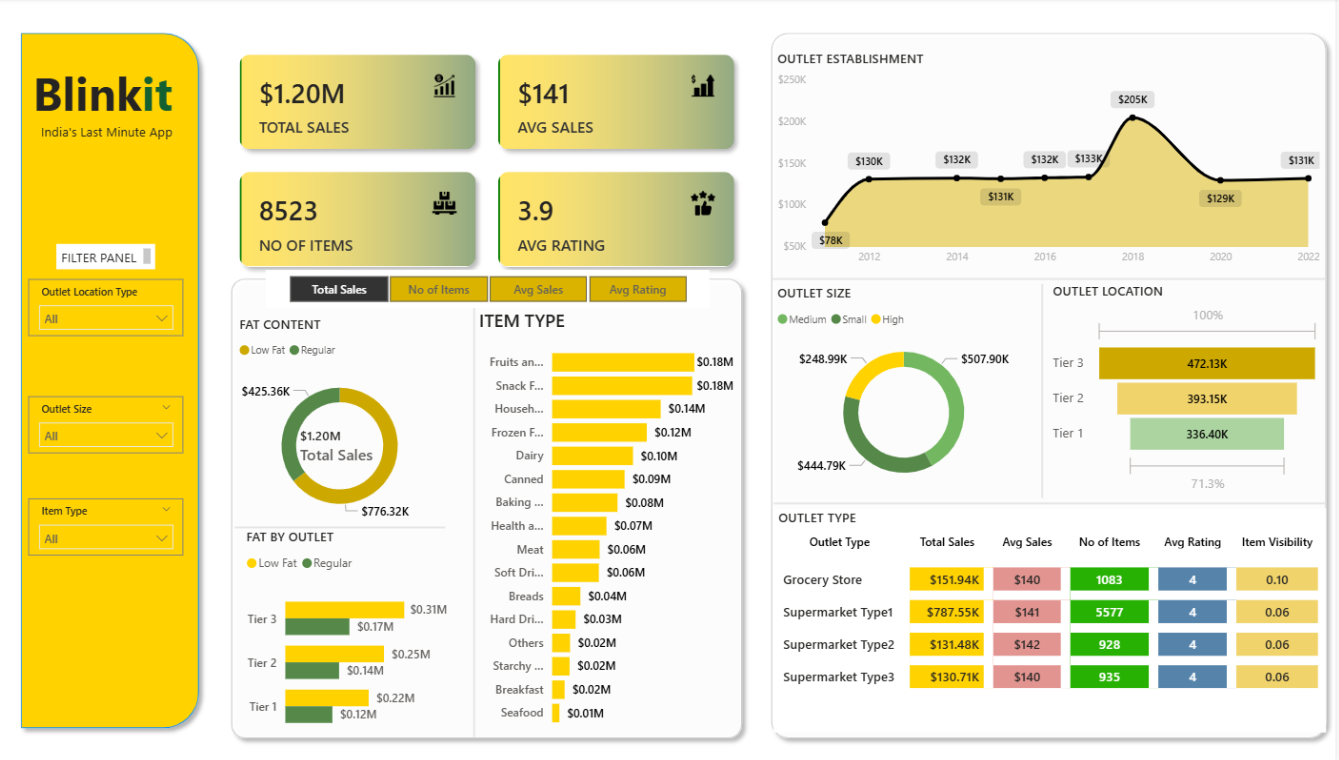

What the dashboard file says about the page in this screenshot:
{"tool":"powerbi","page":{"name":"Page 1","canvas":[1400,800],"ordinal":0},"visuals":[{"type":"shape","box":[13.6,27.3,204.7,746.5],"z":0},{"type":"textbox","box":[30.4,61.9,173.2,74.5],"z":1000},{"type":"textbox","box":[38.8,126,154.3,35.7],"z":2000},{"type":"cardVisual","fields":{"Data":["BlinkIT Grocery Data.Total Sales","BlinkIT Grocery Data.Avg Sales","BlinkIT Grocery Data.No of Items","BlinkIT Grocery Data.Avg Rating"]},"box":[235.2,42,552.3,257.2],"z":3000},{"type":"shape","box":[234.1,284.5,553.3,499.8],"z":4000},{"type":"donutChart","title":"FAT CONTENT","fields":{"Y":["BlinkIT Grocery Data.Total Sales"],"Category":["BlinkIT Grocery Data.Item Fat Content"]},"box":[246.7,331.8,220.5,229.9],"z":5000},{"type":"slicer","fields":{"Values":["Metrics.Metrics"]},"box":[279.3,284.5,465.1,39.9],"z":6000},{"type":"cardVisual","fields":{"Data":["BlinkIT Grocery Data.Total Sales"]},"box":[298.2,431.5,116.5,67.2],"z":7000},{"type":"clusteredBarChart","title":"FAT BY OUTLET","fields":{"Y":["BlinkIT Grocery Data.Total Sales"],"Category":["BlinkIT Grocery Data.Outlet Location Type"],"Series":["BlinkIT Grocery Data.Item Fat Content"]},"box":[254.1,554.4,220.5,229.9],"z":8000},{"type":"shape","box":[246.7,548.1,220.5,12.6],"z":9000},{"type":"shape","box":[491.4,324.4,12.6,449.4],"z":10000},{"type":"barChart","title":"ITEM TYPE","fields":{"Y":["BlinkIT Grocery Data.Total Sales"],"Category":["BlinkIT Grocery Data.Item Type"]},"box":[497.7,324.4,277.2,449.4],"z":11000},{"type":"shape","box":[800.1,27.3,599.5,757],"z":12000},{"type":"lineChart","title":"OUTLET ESTABLISHMENT","fields":{"Y":["BlinkIT Grocery Data.Total Sales"],"Category":["BlinkIT Grocery Data.Outlet Establishment Year"]},"box":[810.6,53.5,578.5,235.2],"z":13000},{"type":"shape","box":[810.6,283.5,578.5,21],"z":14000},{"type":"donutChart","title":"OUTLET SIZE","fields":{"Y":["BlinkIT Grocery Data.Total Sales"],"Category":["BlinkIT Grocery Data.Outlet Size"]},"box":[810.6,299.2,275.1,224.7],"z":15000},{"type":"shape","box":[1086.7,299.2,12.6,224.7],"z":16000},{"type":"funnel","title":"OUTLET LOCATION","fields":{"Y":["Sum(BlinkIT Grocery Data.Sales)"],"Category":["BlinkIT Grocery Data.Outlet Location Type"]},"box":[1099.3,297.1,289.8,226.8],"z":17000},{"type":"shape","box":[811.6,518.7,578.5,21],"z":18000},{"type":"pivotTable","title":"OUTLET TYPE","fields":{"Rows":["BlinkIT Grocery Data.Outlet Type"],"Values":["BlinkIT Grocery Data.Total Sales","BlinkIT Grocery Data.Avg Sales","BlinkIT Grocery Data.No of Items","BlinkIT Grocery Data.Avg Rating","Avg(BlinkIT Grocery Data.Item Visibility)"]},"box":[811.6,534.4,578.5,235.2],"z":19000},{"type":"slicer","fields":{"Values":["BlinkIT Grocery Data.Outlet Location Type"]},"box":[30.4,294,162.7,59.8],"z":20000},{"type":"slicer","fields":{"Values":["BlinkIT Grocery Data.Outlet Size"]},"box":[30.4,416.8,162.7,59.8],"z":21000},{"type":"slicer","fields":{"Values":["BlinkIT Grocery Data.Item Type"]},"box":[30.4,523.9,162.7,59.8],"z":22000},{"type":"textbox","box":[59.8,257.2,103.9,26.2],"z":23000}]}

Visuals, with their boxes in screenshot pixels (x1, y1, x2, y2), scaled from the page's 1400x800 canvas onto the 1339x760 screenshot:
shape: detection(13, 26, 209, 735)
textbox: detection(29, 59, 195, 130)
textbox: detection(37, 120, 185, 154)
cardVisual - BlinkIT Grocery Data.Total Sales x BlinkIT Grocery Data.Avg Sales: detection(225, 40, 753, 284)
shape: detection(224, 270, 753, 745)
"FAT CONTENT" donutChart: detection(236, 315, 447, 534)
slicer - Metrics.Metrics: detection(267, 270, 712, 308)
cardVisual - BlinkIT Grocery Data.Total Sales: detection(285, 410, 397, 474)
"FAT BY OUTLET" clusteredBarChart: detection(243, 527, 454, 745)
shape: detection(236, 521, 447, 533)
shape: detection(470, 308, 482, 735)
"ITEM TYPE" barChart: detection(476, 308, 741, 735)
shape: detection(765, 26, 1338, 745)
"OUTLET ESTABLISHMENT" lineChart: detection(775, 51, 1329, 274)
shape: detection(775, 269, 1329, 289)
"OUTLET SIZE" donutChart: detection(775, 284, 1038, 498)
shape: detection(1039, 284, 1051, 498)
"OUTLET LOCATION" funnel: detection(1051, 282, 1329, 498)
shape: detection(776, 493, 1330, 513)
"OUTLET TYPE" pivotTable: detection(776, 508, 1330, 731)
slicer - BlinkIT Grocery Data.Outlet Location Type: detection(29, 279, 185, 336)
slicer - BlinkIT Grocery Data.Outlet Size: detection(29, 396, 185, 453)
slicer - BlinkIT Grocery Data.Item Type: detection(29, 498, 185, 555)
textbox: detection(57, 244, 157, 269)
